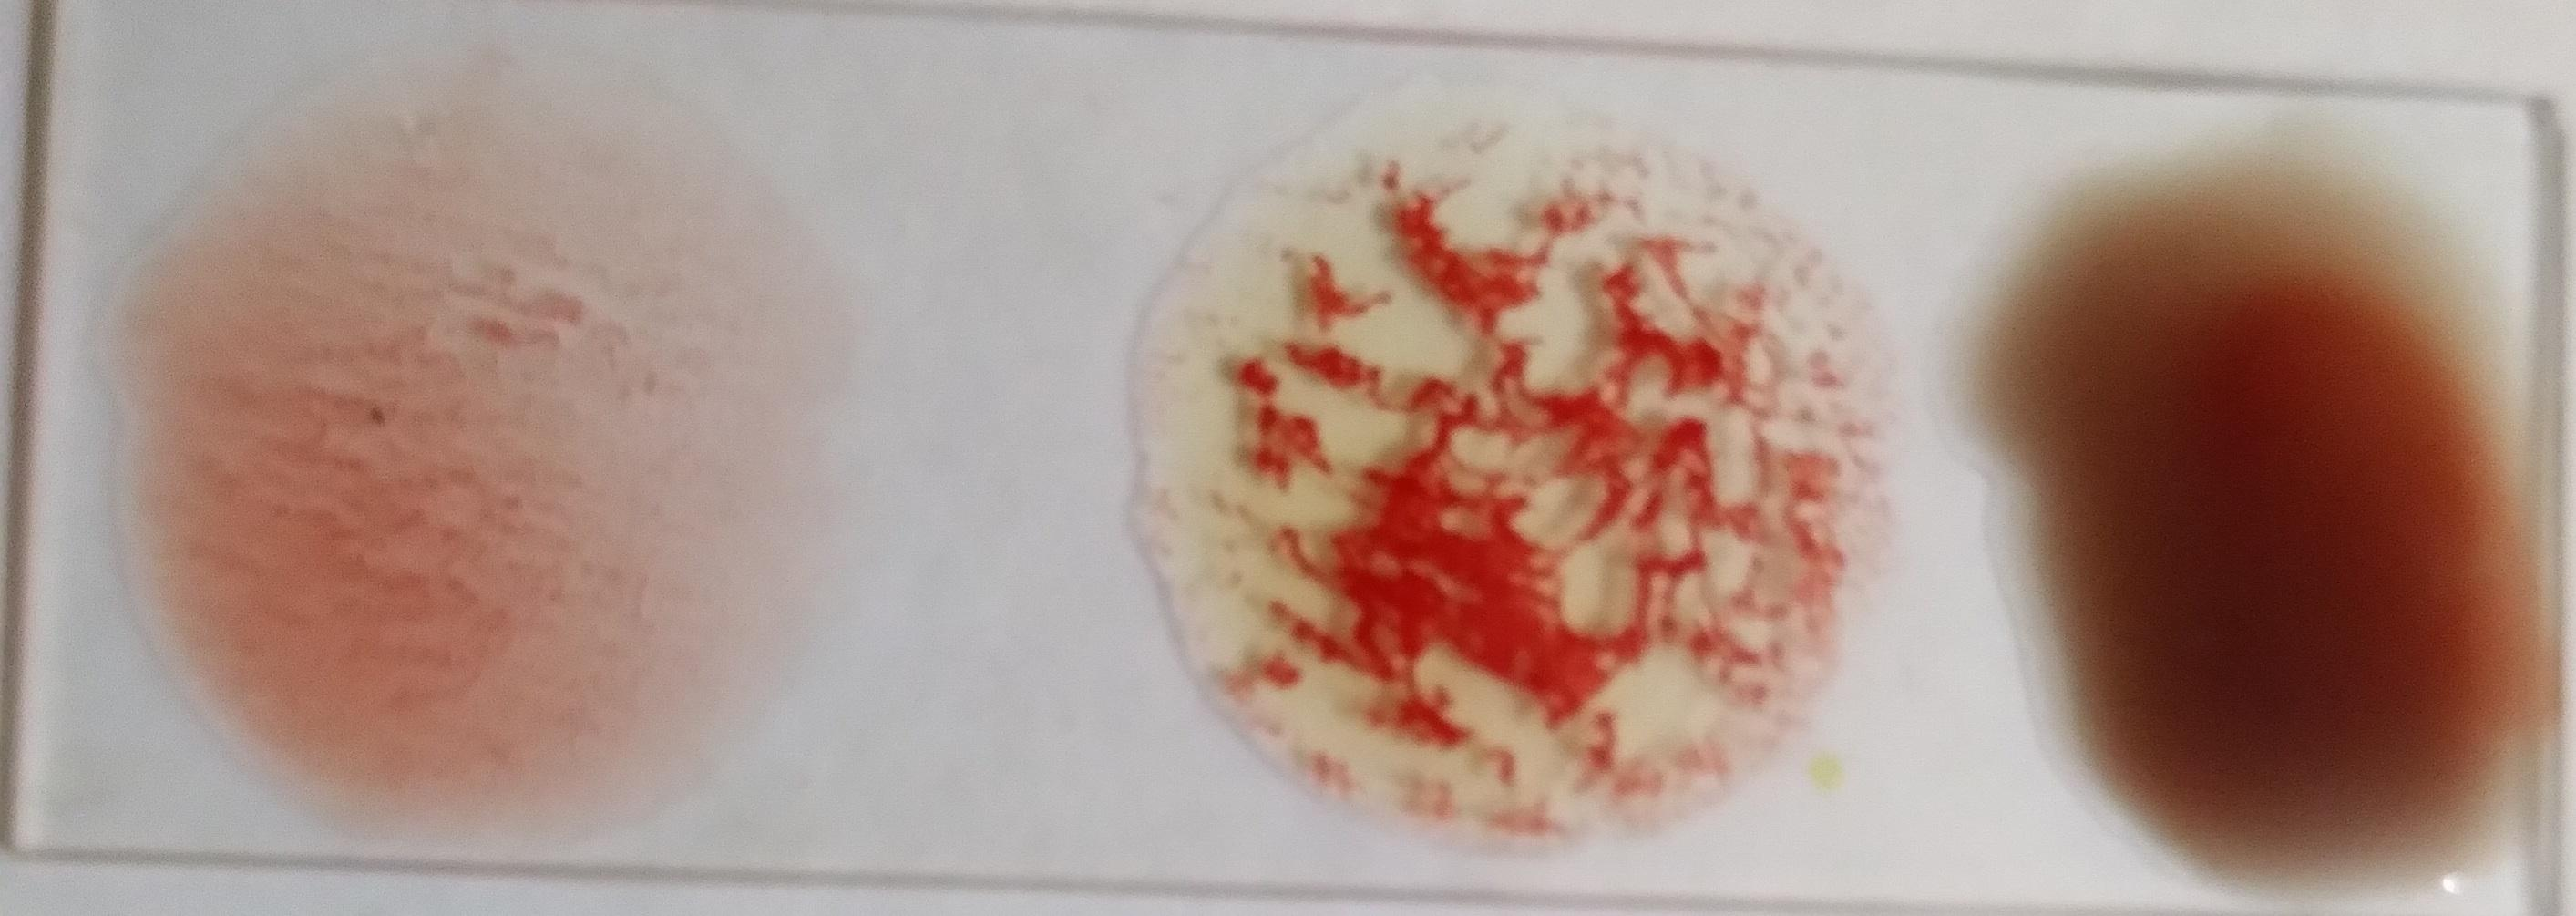B: (1186, 141, 1874, 832)
D: (151, 84, 744, 821)
